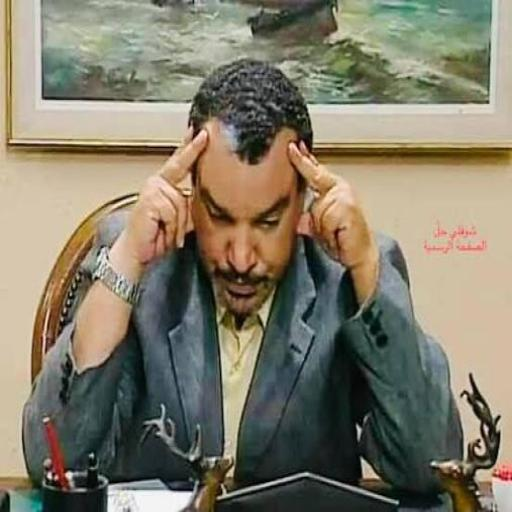slimane: (189, 58, 312, 316)
